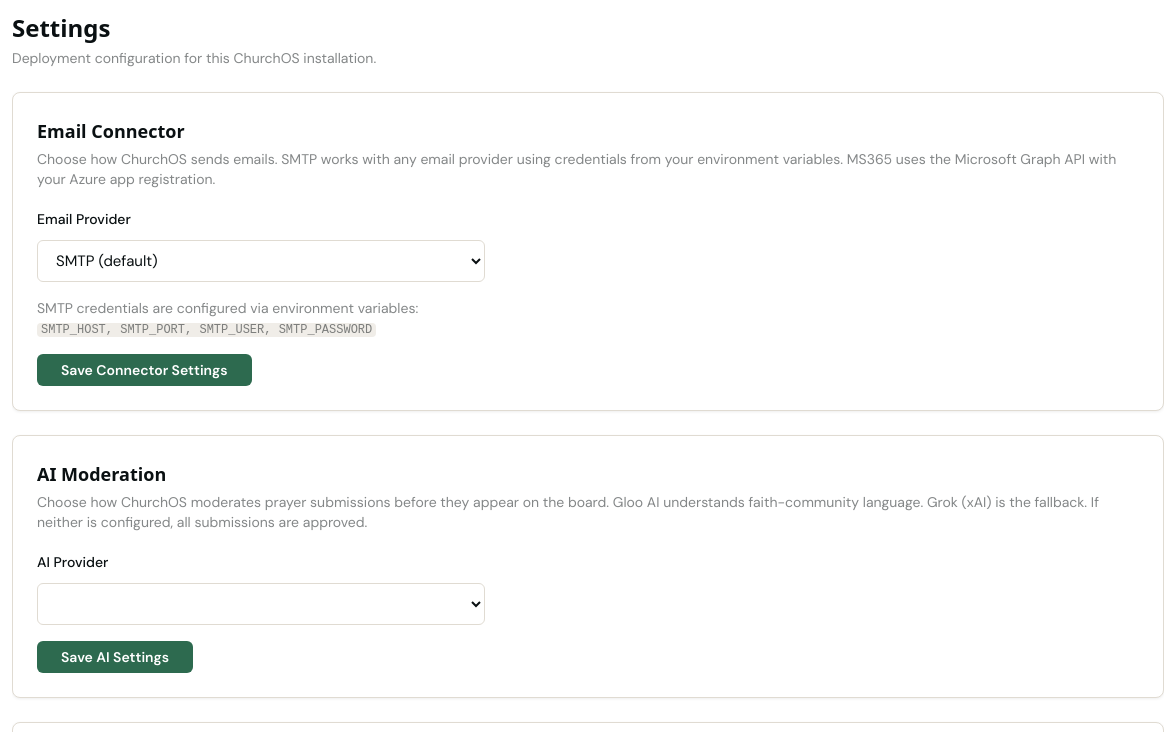
Test case: SettingsPage — Email Connector › shows success message after connector save
The width and height of the screenshot is (1164, 732).
Click the button with test id "connector-save-btn": (144, 370) [37,354,252,386]
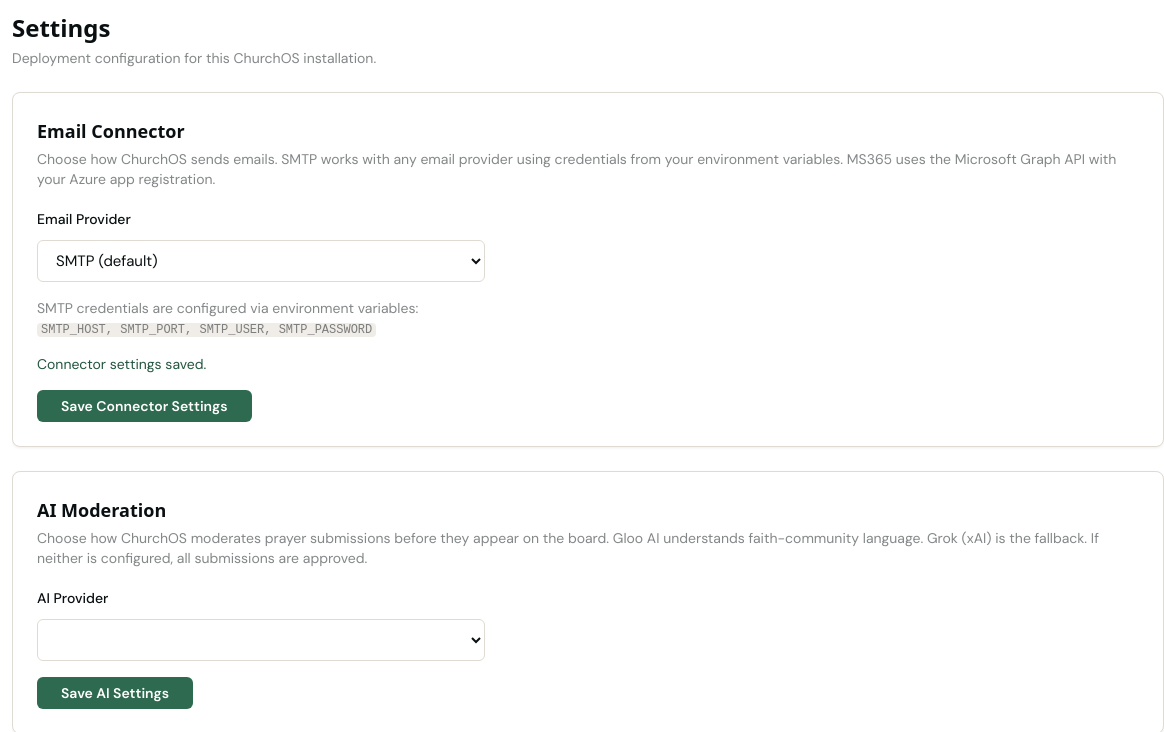
Expected: the text "Connector settings saved." is shown, [37,355,206,373]
